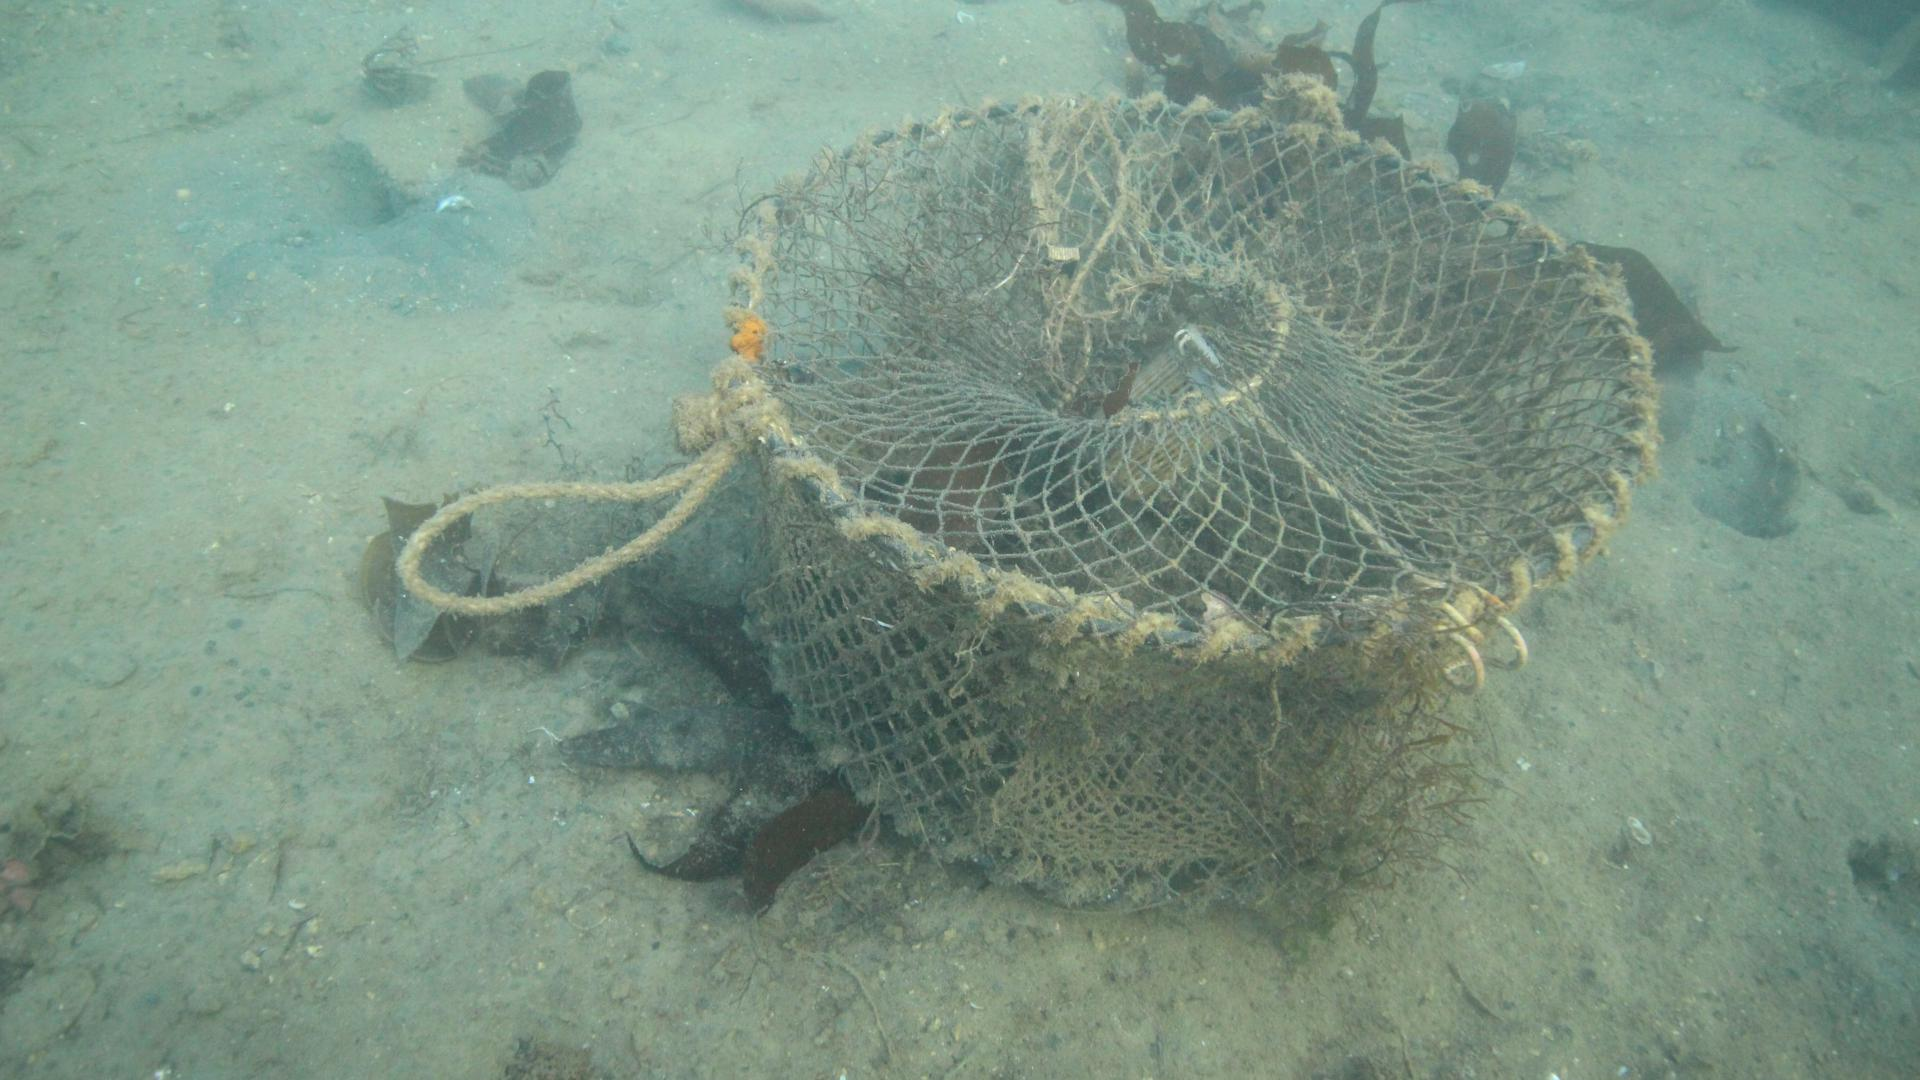circular fish trap: (724, 91, 1660, 920)
rope: (392, 436, 738, 616)
